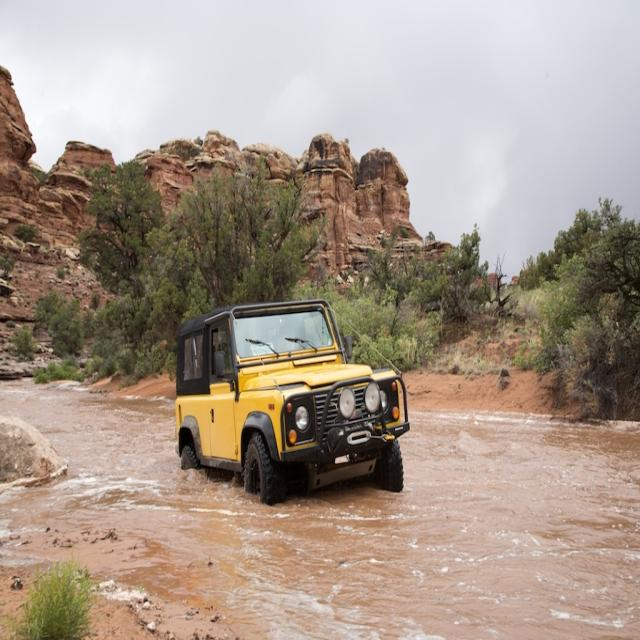car: (180, 286, 406, 507)
